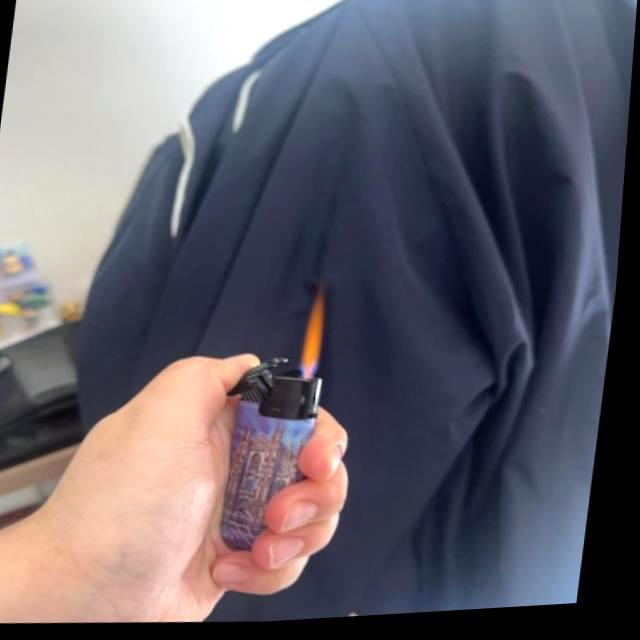fire: (302, 298, 336, 378)
